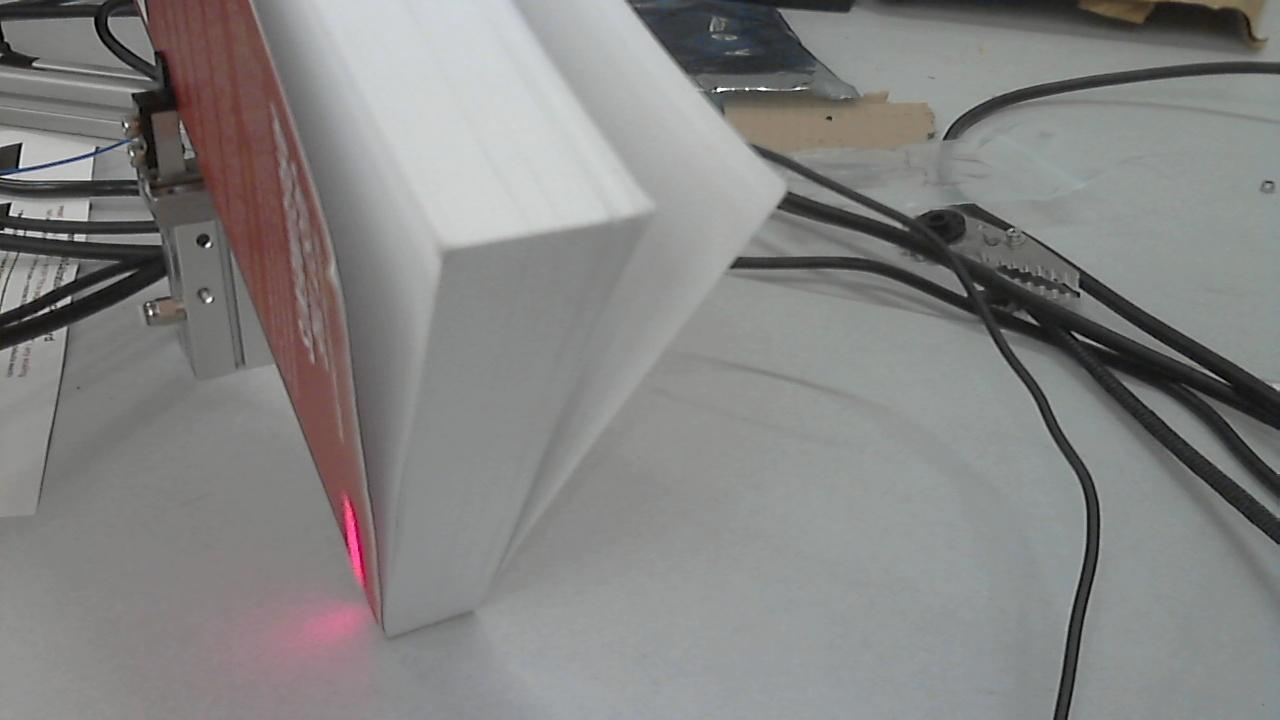Object book - Material paper - Color red - Pdfname QP9o9Hihi4G7: (310, 474, 382, 608)
